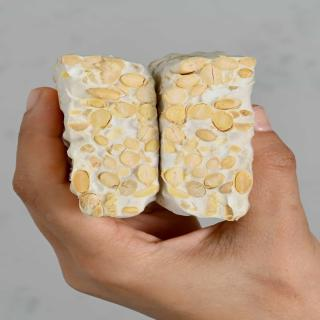Tempe: (54, 54, 161, 220)
